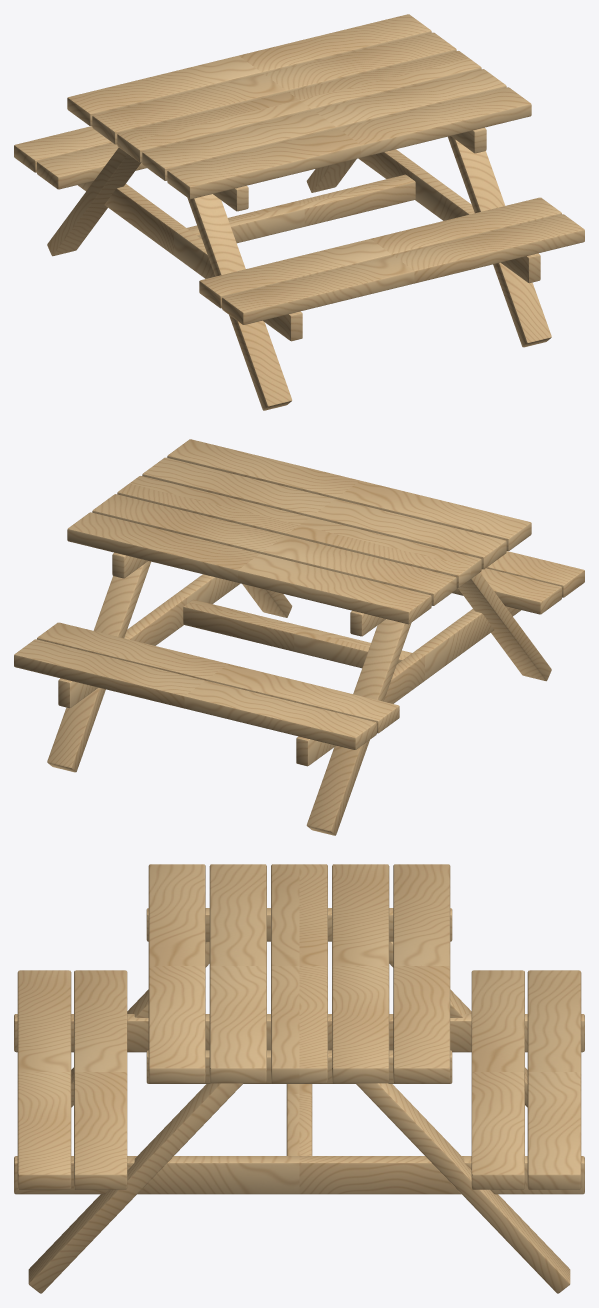
Rendered from picnic-table.glb.
3 renders of one model, top to bottom at view 1: azimuth 30°, elevation 25°; view 2: azimuth 150°, elevation 25°; view 3: azimuth 270°, elevation 25°, orthographic. The views are drawn at different scales.
Parts seen in each view (by area): view 1: Kids picnic table; view 2: Kids picnic table; view 3: Kids picnic table.
Part boxes in pixels (<box>): Kids picnic table: <box>14,14,584,410</box>; Kids picnic table: <box>14,439,584,835</box>; Kids picnic table: <box>14,864,584,1293</box>.
Bounding box in the file's own units: 0.95 × 0.5273 × 1.12.
Materials: 1 (1 with a texture image).
